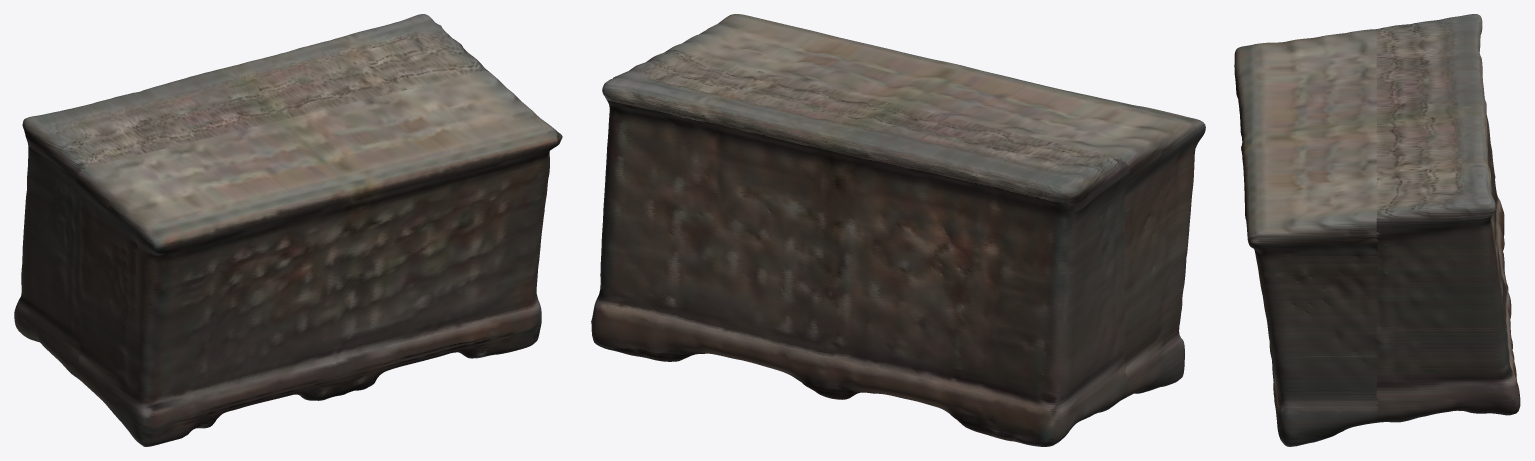
File: kfl-2301.glb
The picture shows the model from 3 angles, left to right: view 1: azimuth 30°, elevation 25°; view 2: azimuth 150°, elevation 25°; view 3: azimuth 270°, elevation 25°; orthographic projection. The views are drawn at different scales.
Parts seen in each view (by area): view 1: geometry_0; view 2: geometry_0; view 3: geometry_0.
Boxes of the visible parts, x1=… form: geometry_0: x1=14, y1=14, x2=562, y2=446; geometry_0: x1=591, y1=14, x2=1205, y2=446; geometry_0: x1=1234, y1=14, x2=1520, y2=446.
Size of the model in its own units: 0.9894 by 0.572 by 0.6025.
1 material, 1 textured.
